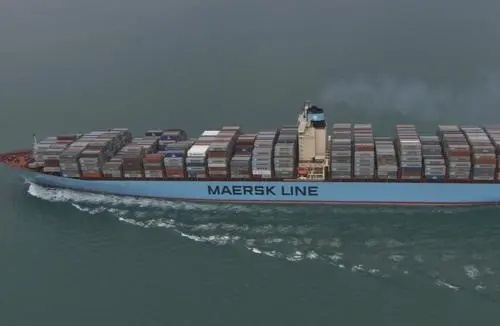Cargoship: (1, 100, 500, 208)
